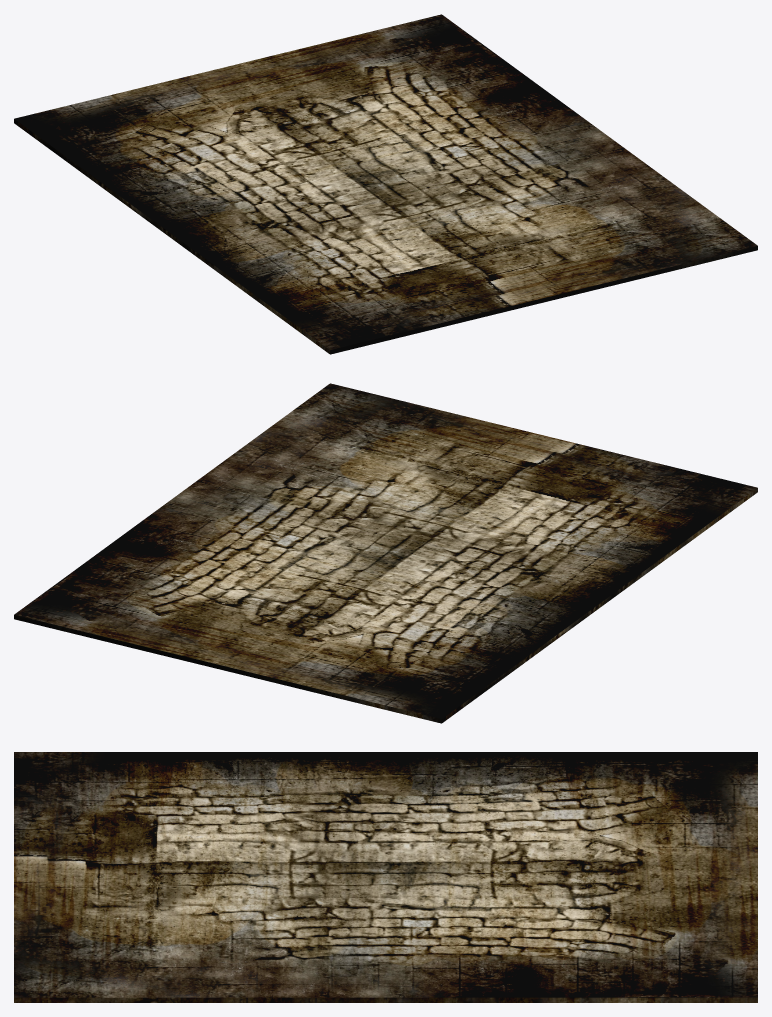
The model's file is stone_floor.FBX.
3 views of the same model, one above another, from view 1: azimuth 30°, elevation 25°; view 2: azimuth 150°, elevation 25°; view 3: azimuth 270°, elevation 25° (orthographic). The views are drawn at different scales.
Visible parts, largest first — view 1: floor; view 2: floor; view 3: floor.
Boxes of the visible parts, x1,y1,x2,y2 form: floor: [14, 14, 757, 354]; floor: [14, 383, 757, 723]; floor: [14, 752, 757, 1002].
Size of the model in its own units: 926 by 9.24 by 1185.
1 material, 1 textured.
